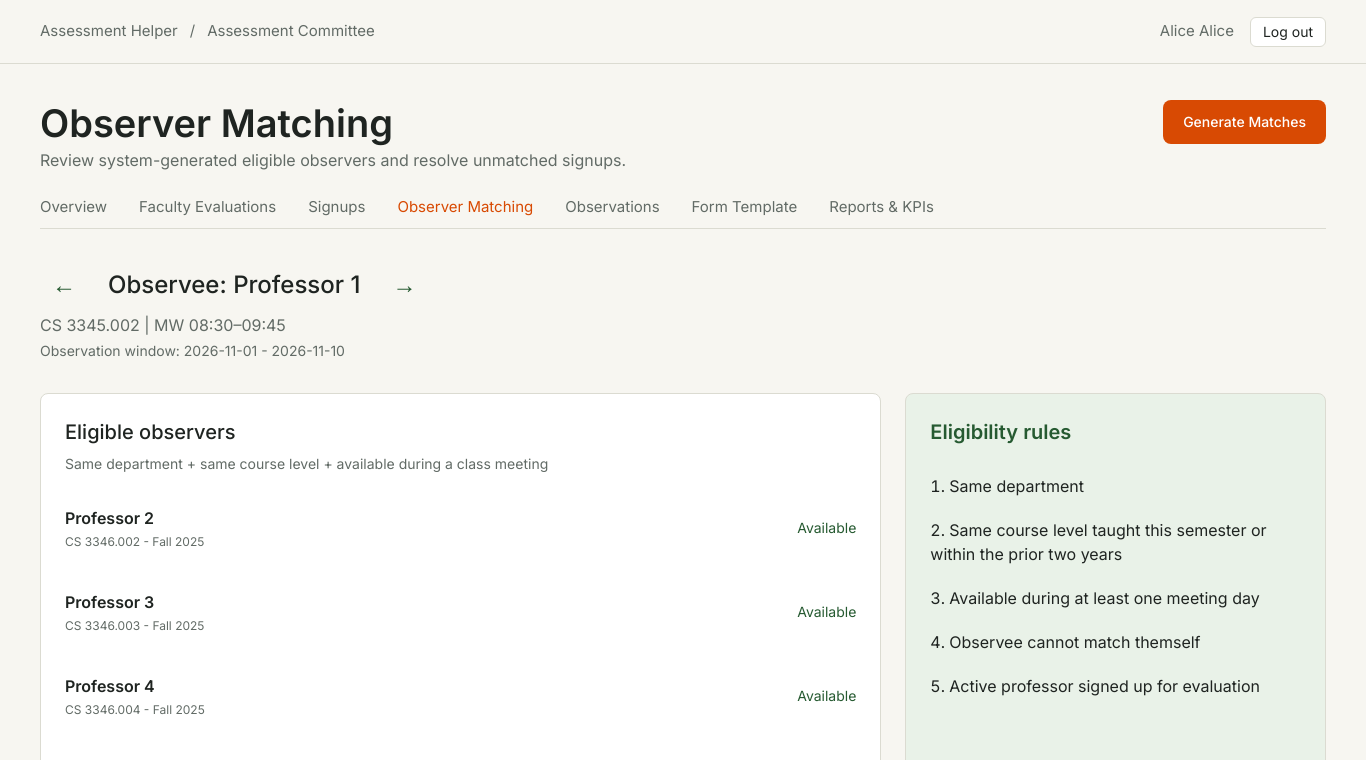
Test: zero candidates alert AC and prevent release; arrows wrap
Expected: the heading "Observee: Professor 1" is shown, [108, 269, 360, 301]
Click the button named "Next observee" at (404, 285), box [380, 257, 428, 313]
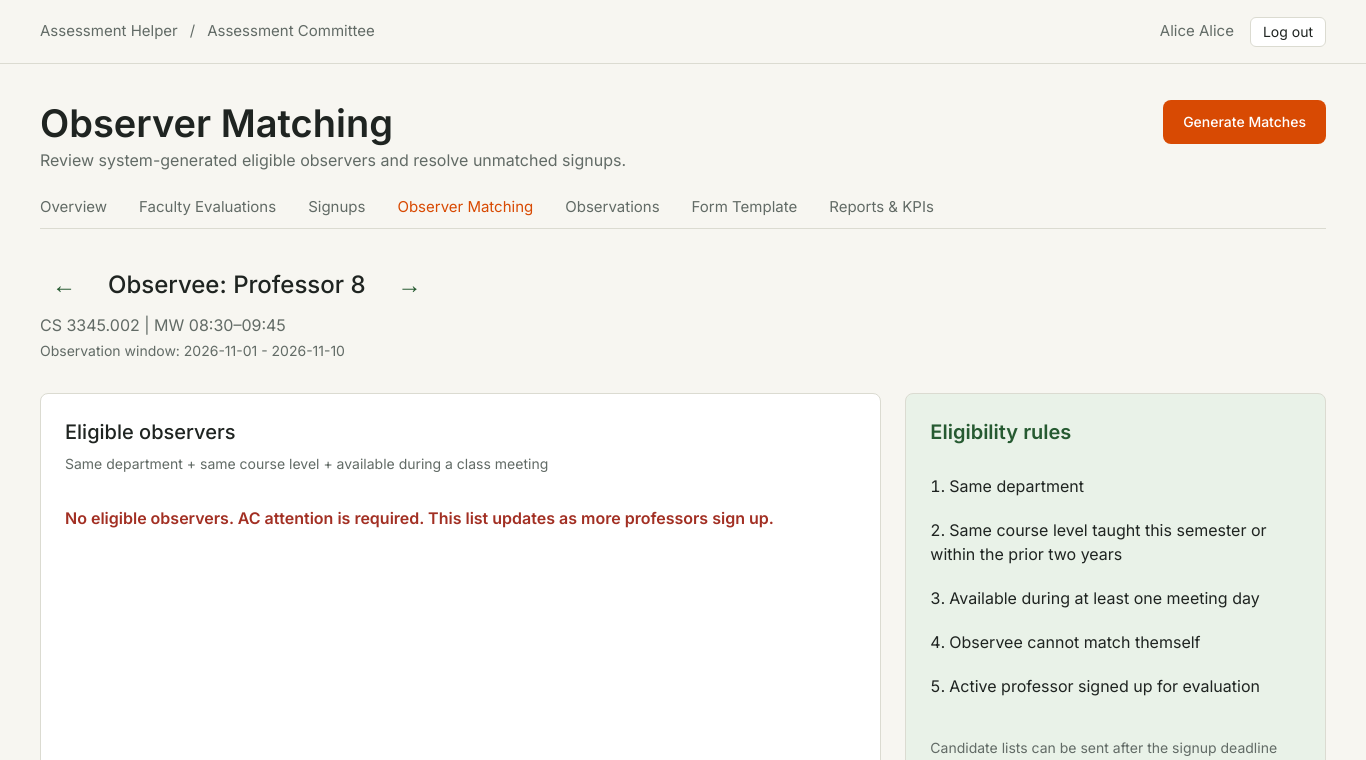
Now the message shows "No eligible observers", box [65, 508, 774, 528]
Click the button named "Next observee" at (410, 285), box [386, 257, 434, 313]
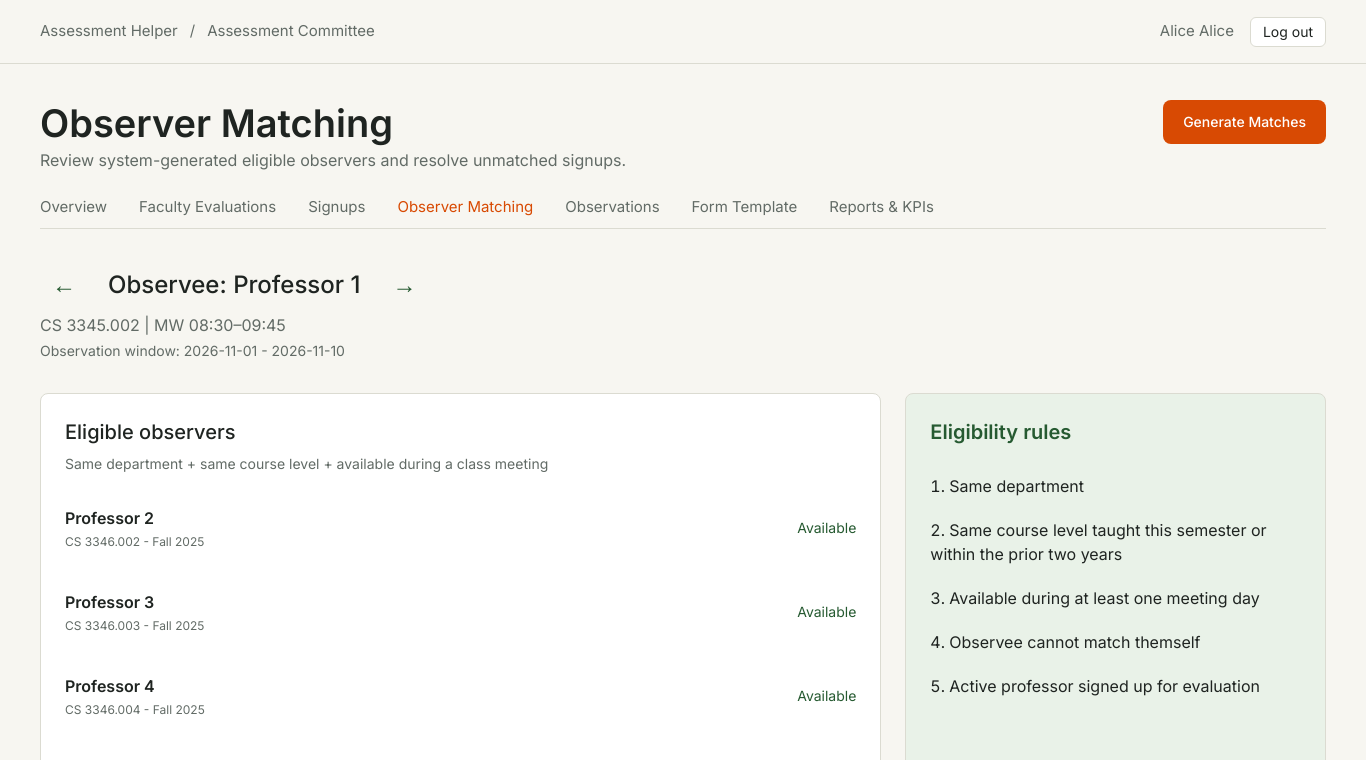
Now the heading "Observee: Professor 1" is shown, box [108, 269, 360, 301]
